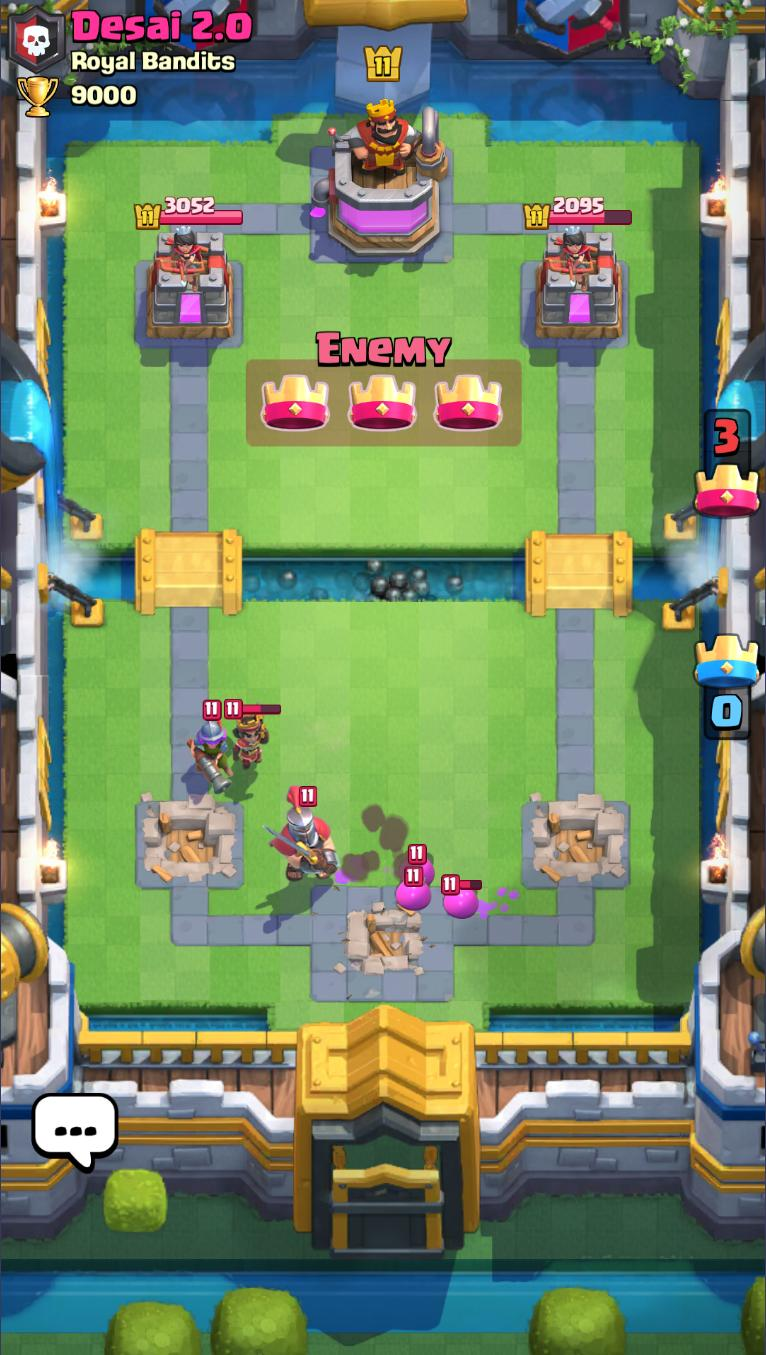ElixirGolemMicro: (440, 876, 481, 924), (394, 868, 431, 916), (400, 842, 436, 884)
EnemyTower: (528, 228, 625, 346), (143, 226, 238, 344)
KingTower: (312, 95, 455, 266)
LittlePrince: (223, 699, 284, 773)
LittlePrinceGuard: (265, 787, 341, 884)
Musketeer: (187, 700, 244, 794)
MyKingTowerBrocken: (309, 858, 452, 1009)
MyPrincessTowerBrocken: (519, 799, 634, 898), (128, 795, 242, 890)
PrincessTower: (550, 225, 605, 287), (157, 226, 212, 286)
TowerPrincessHP: (522, 194, 636, 231), (132, 196, 246, 233)
